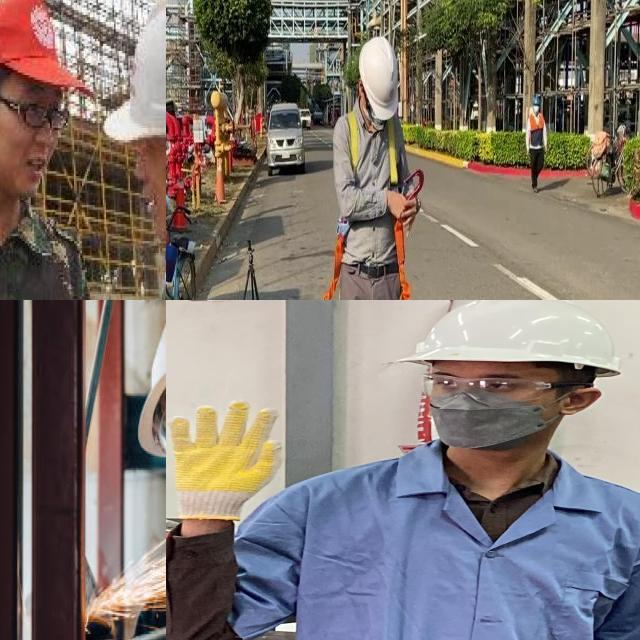Harness: (387, 220, 412, 300), (325, 235, 345, 300)
face_mask: (417, 369, 553, 448)
face_nomask: (5, 93, 74, 184), (120, 143, 166, 227)
glasses: (412, 369, 600, 404), (13, 98, 73, 136)
hand_glove: (166, 400, 299, 512)
head_helmet: (401, 300, 624, 376), (91, 0, 166, 146), (138, 324, 166, 455)
head_nohelmet: (0, 0, 97, 92)
person: (166, 300, 640, 640), (0, 0, 106, 300), (61, 0, 166, 300)
